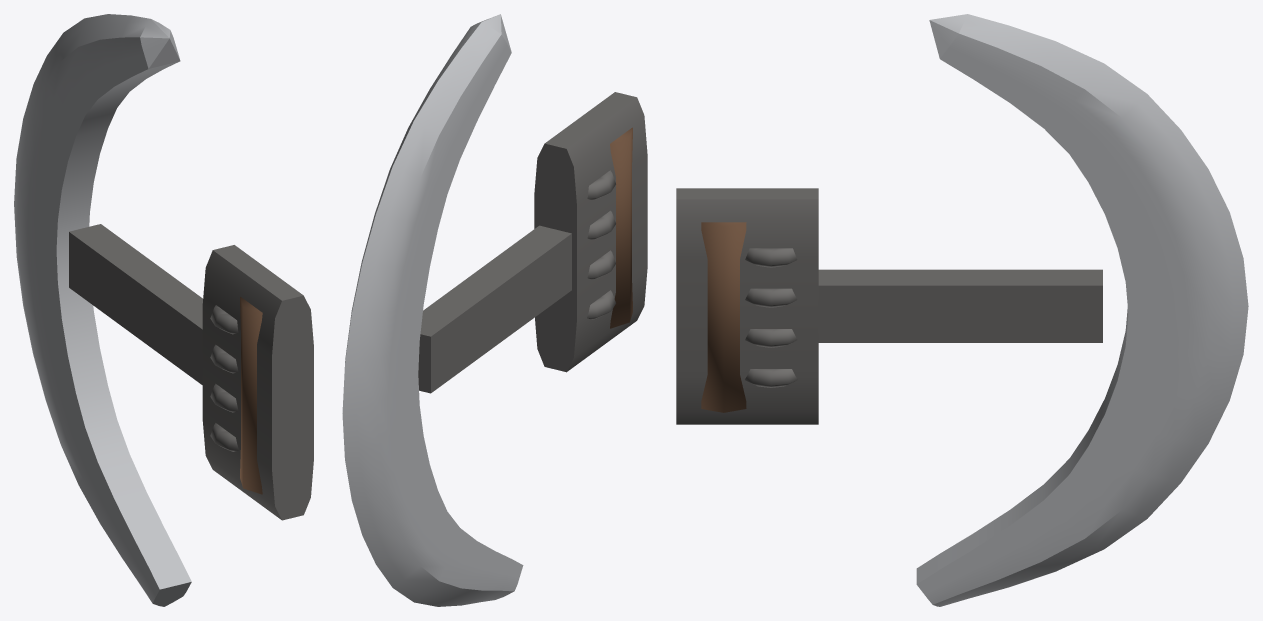
Rendered from knuckle-axe.glb.
3 views of the same model, side by side, from view 1: azimuth 30°, elevation 25°; view 2: azimuth 150°, elevation 25°; view 3: azimuth 270°, elevation 25° (orthographic). The views are drawn at different scales.
Parts seen in each view (by area): view 1: knuckle-axe; view 2: knuckle-axe; view 3: knuckle-axe.
Part boxes in pixels (x1,y1,x2,y2): knuckle-axe: [14, 14, 313, 606]; knuckle-axe: [342, 14, 647, 606]; knuckle-axe: [676, 14, 1248, 606].
Size of the model in its own units: 0.0473 by 0.414 by 0.362.
